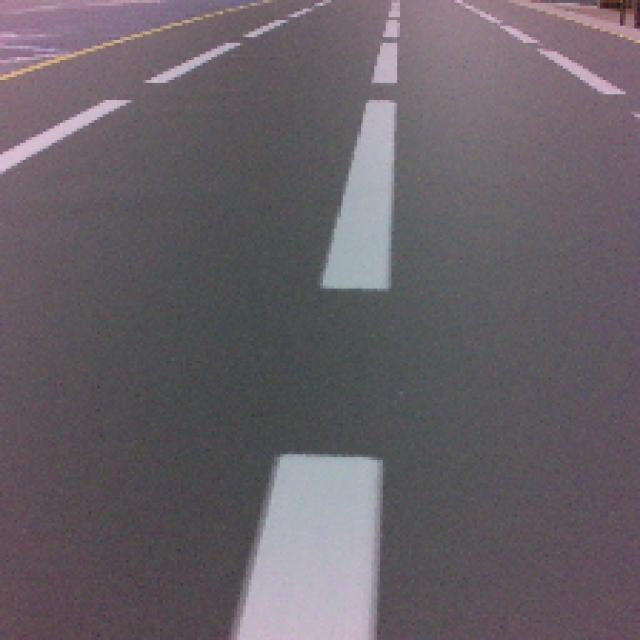Guard rail: (235, 454, 377, 640)
